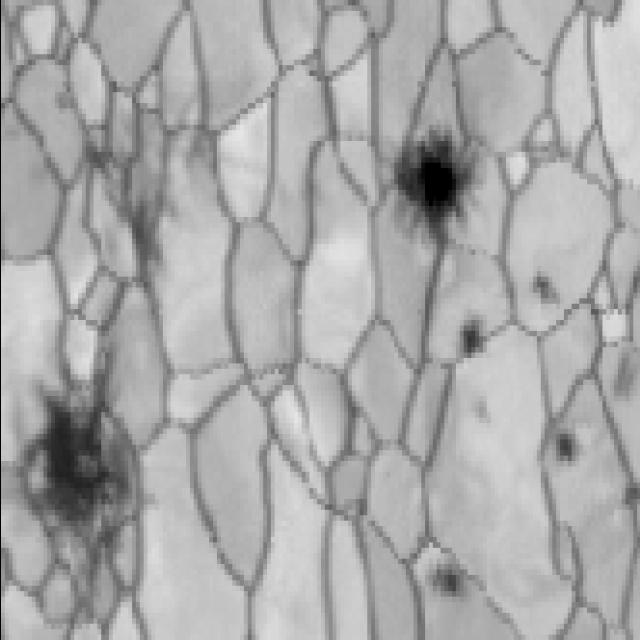good_void: (0, 379, 155, 573), (384, 113, 482, 263), (89, 145, 179, 302), (177, 75, 233, 192), (460, 383, 498, 435), (453, 310, 490, 363), (423, 565, 470, 601), (548, 413, 577, 467), (525, 265, 556, 307), (617, 469, 640, 523)
